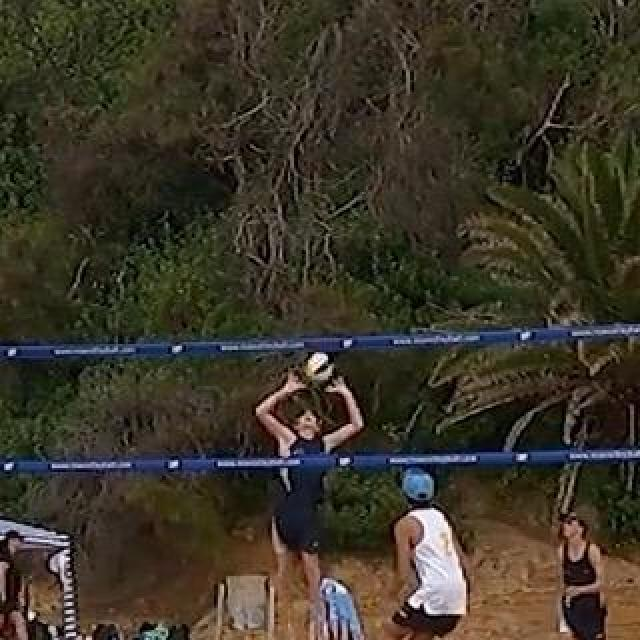volleyball: (306, 353, 334, 385)
